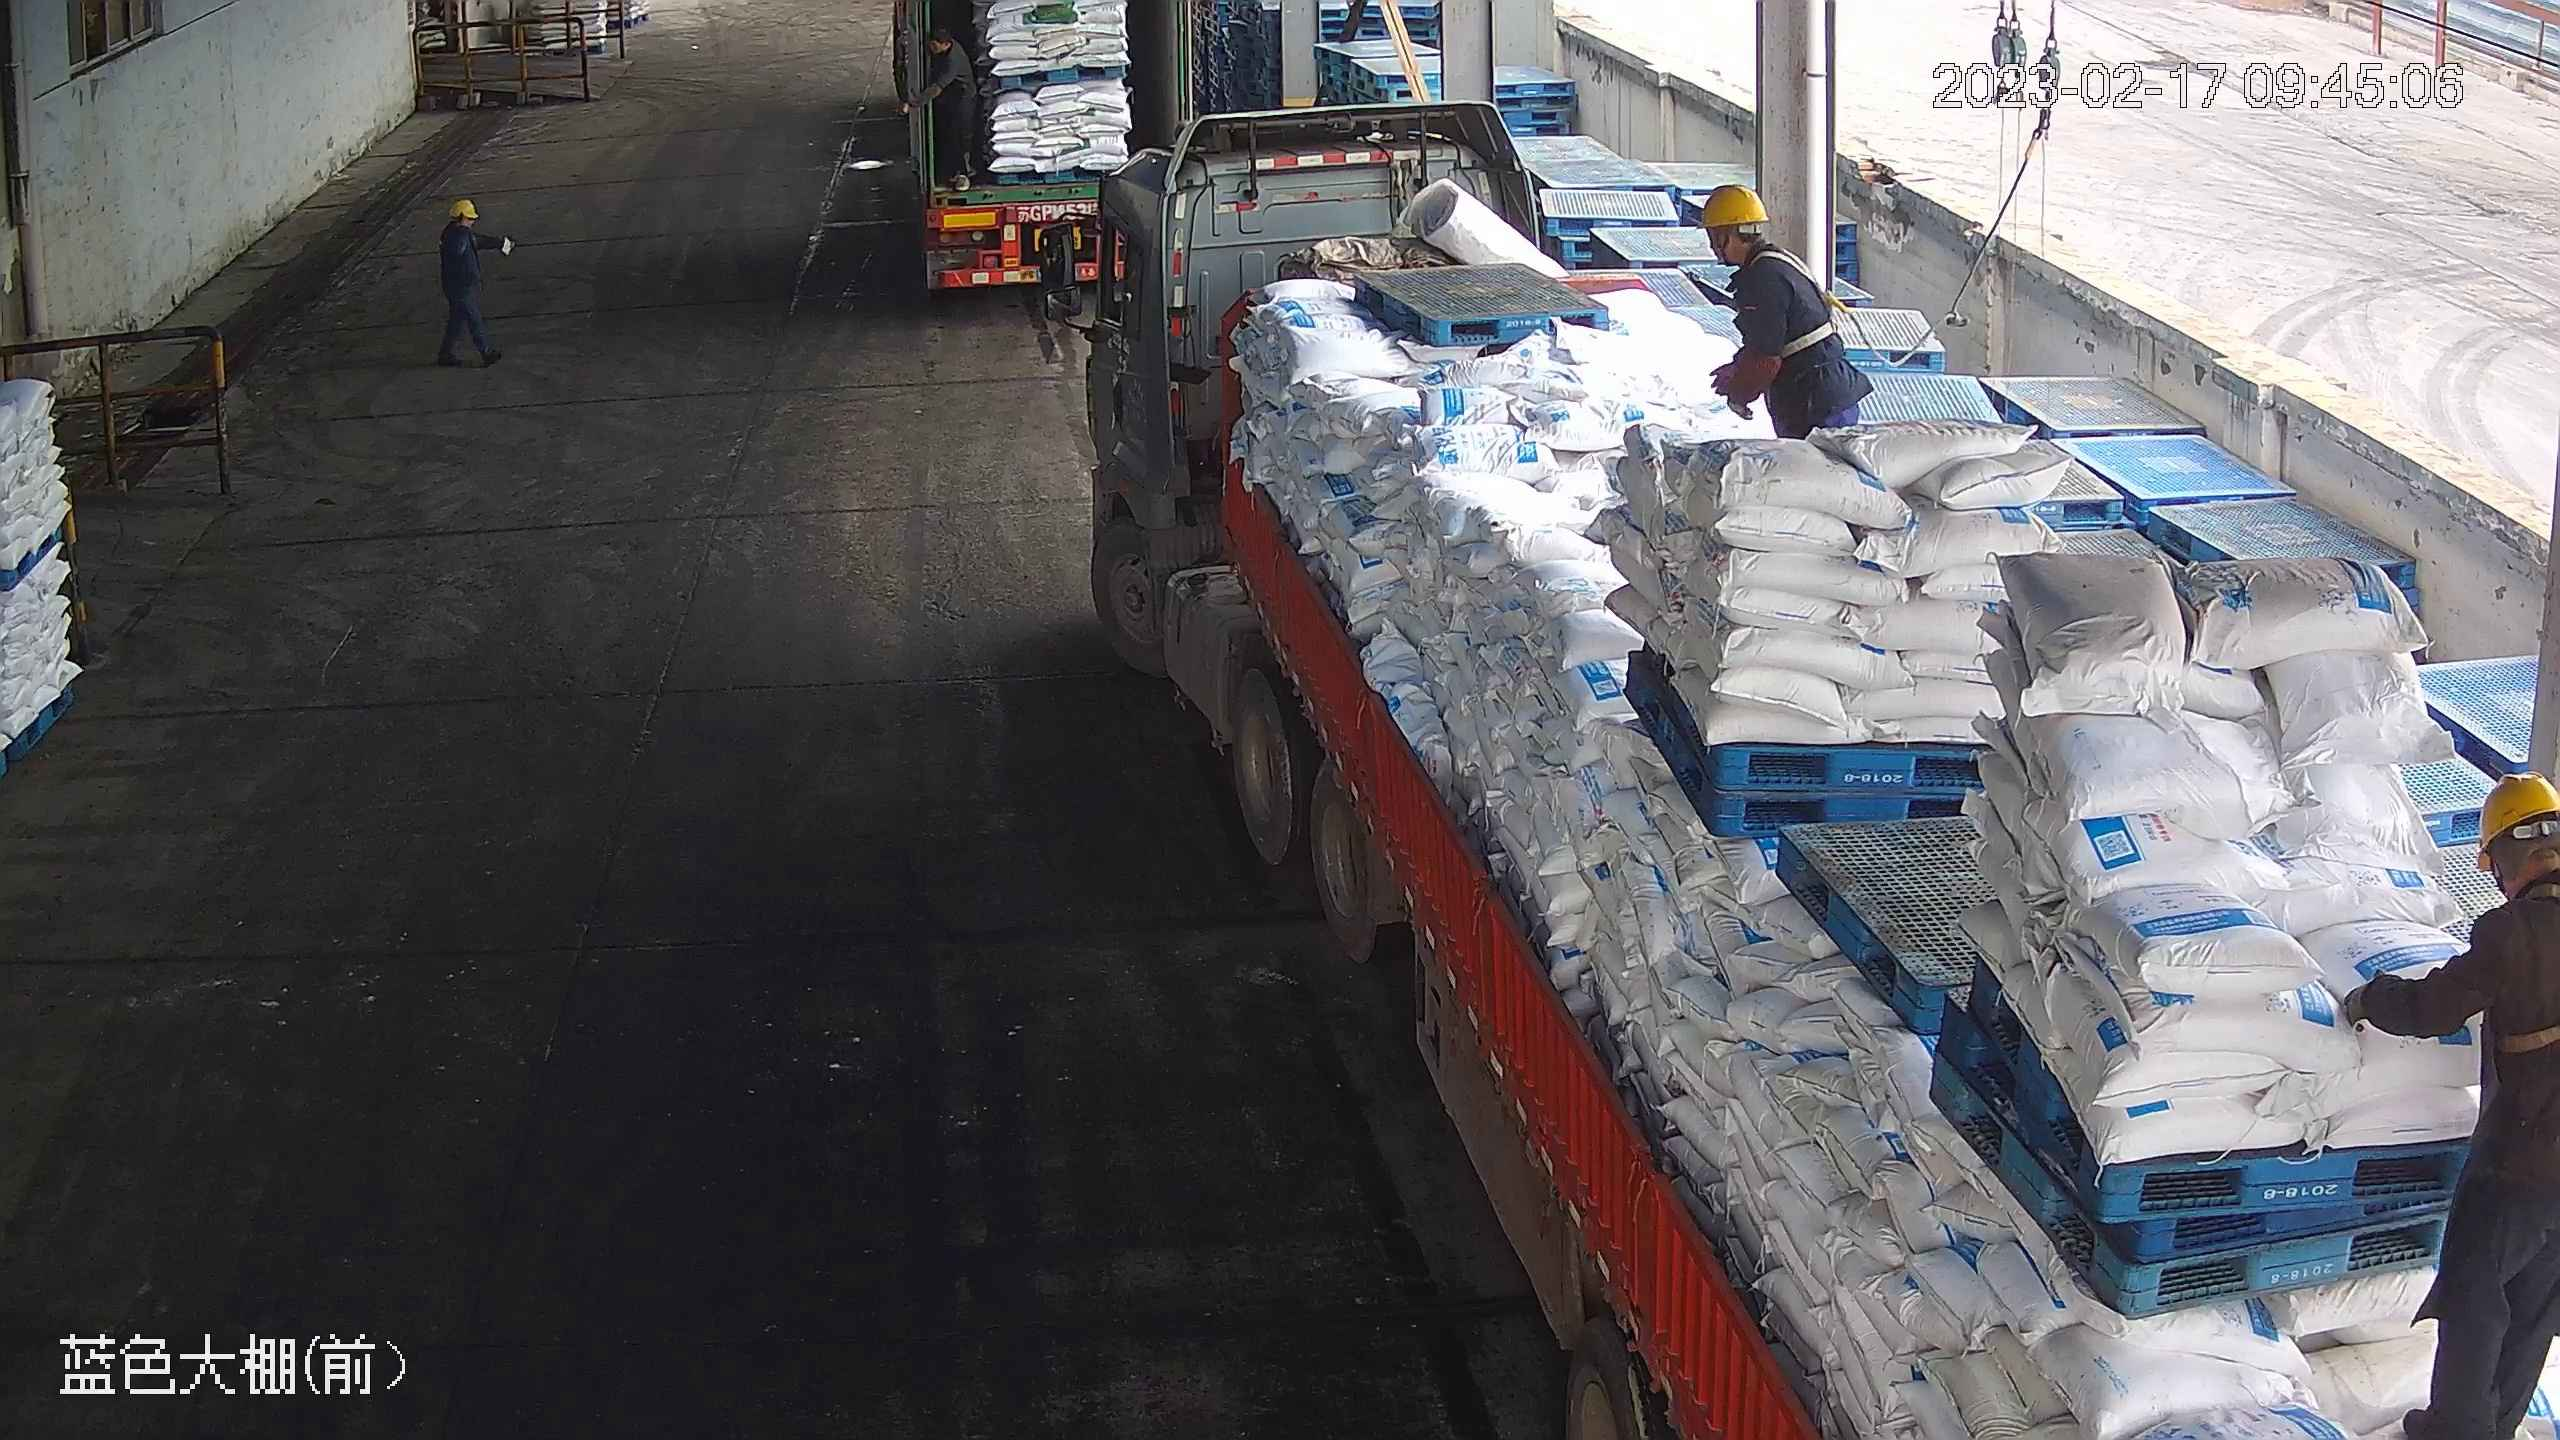belt: (1752, 248, 1844, 357)
head: (2445, 770, 2559, 978), (1697, 186, 1815, 300), (437, 196, 483, 252)
helmet: (2473, 769, 2560, 859), (1696, 183, 1769, 229), (447, 195, 477, 220)
people: (2342, 768, 2560, 1440), (1696, 186, 1871, 446), (432, 194, 509, 371)
truck: (1069, 100, 2560, 1440), (903, 1, 1214, 289)
